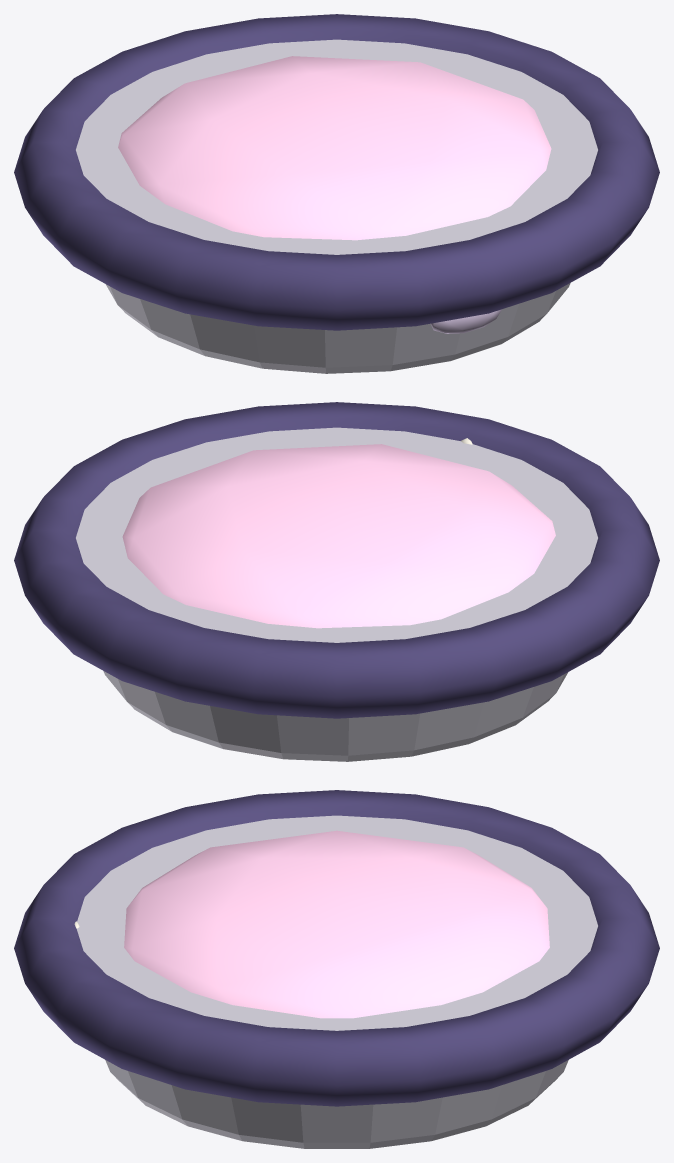
The model's file is pearl_pet_basket.glb.
3 renders of one model, top to bottom at view 1: azimuth 30°, elevation 25°; view 2: azimuth 150°, elevation 25°; view 3: azimuth 270°, elevation 25°, orthographic.
Parts seen in each view (by area): view 1: pearl_pet_basket.001; view 2: pearl_pet_basket.001; view 3: pearl_pet_basket.001.
Part boxes in pixels (x1,y1,x2,y2): pearl_pet_basket.001: [14, 14, 659, 373]; pearl_pet_basket.001: [14, 402, 659, 761]; pearl_pet_basket.001: [14, 790, 659, 1148].
Size of the model in its own units: 5.1 by 1.42 by 5.1.
